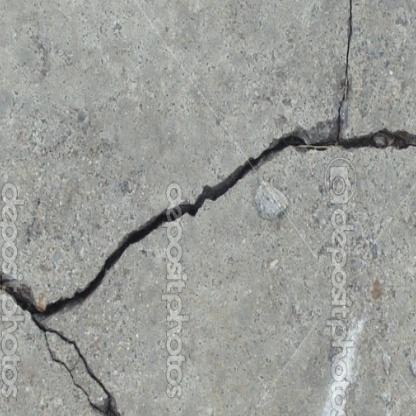Cracks: (0, 92, 416, 416), (342, 0, 360, 83)
